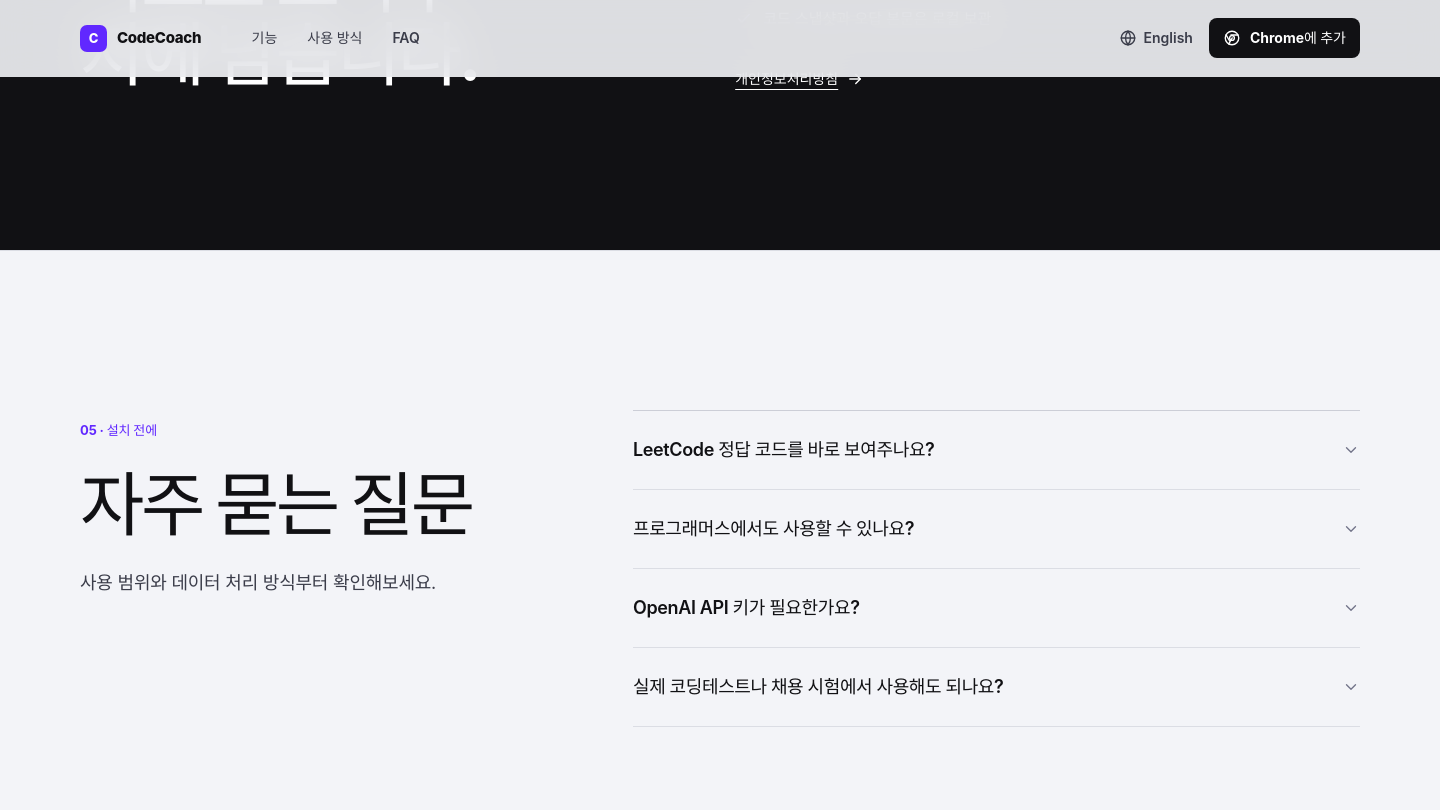
CodeCoach landing page › reveals one FAQ answer without opening the others
(page scrolled)
Click the button "LeetCode 정답 코드를 바로 보여주나요?".
click(784, 449)  # box [633, 411, 1360, 489]
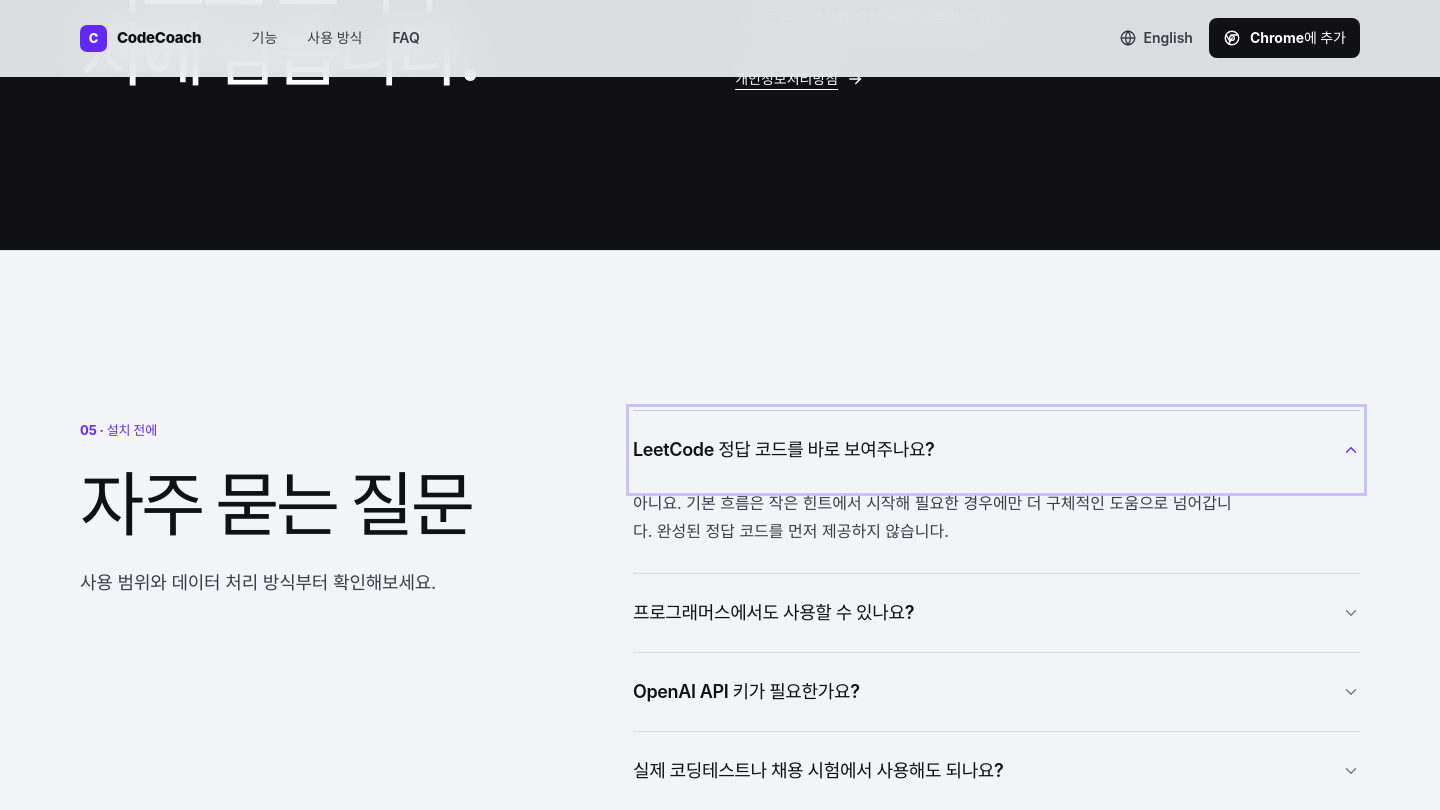
Check: the button "LeetCode 정답 코드를 바로 보여주나요?" is expanded, box [633, 411, 1360, 489]
Check: the text "완성된 정답 코드를 먼저 제공하지 않습니다" is shown, box [633, 493, 1232, 541]
